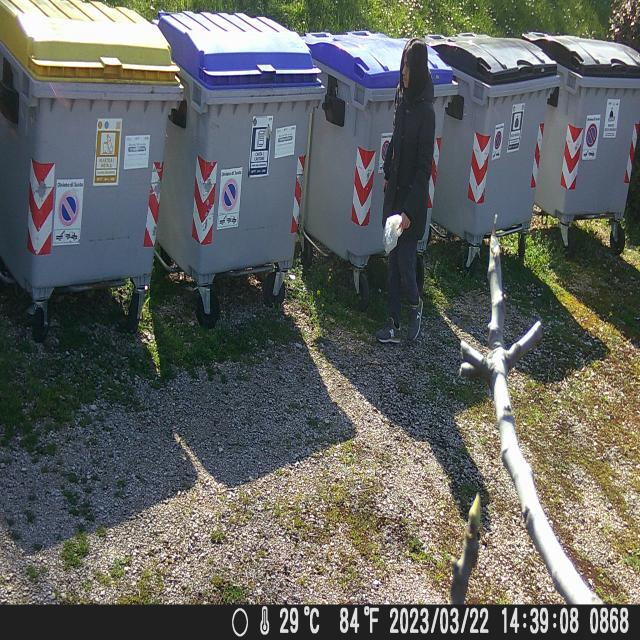sampah-detection: (382, 210, 407, 258)
